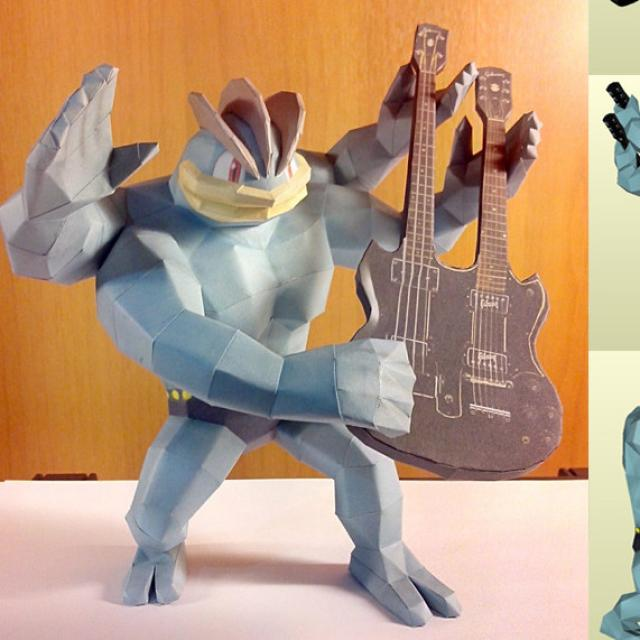Machamp: (84, 79, 408, 611)
